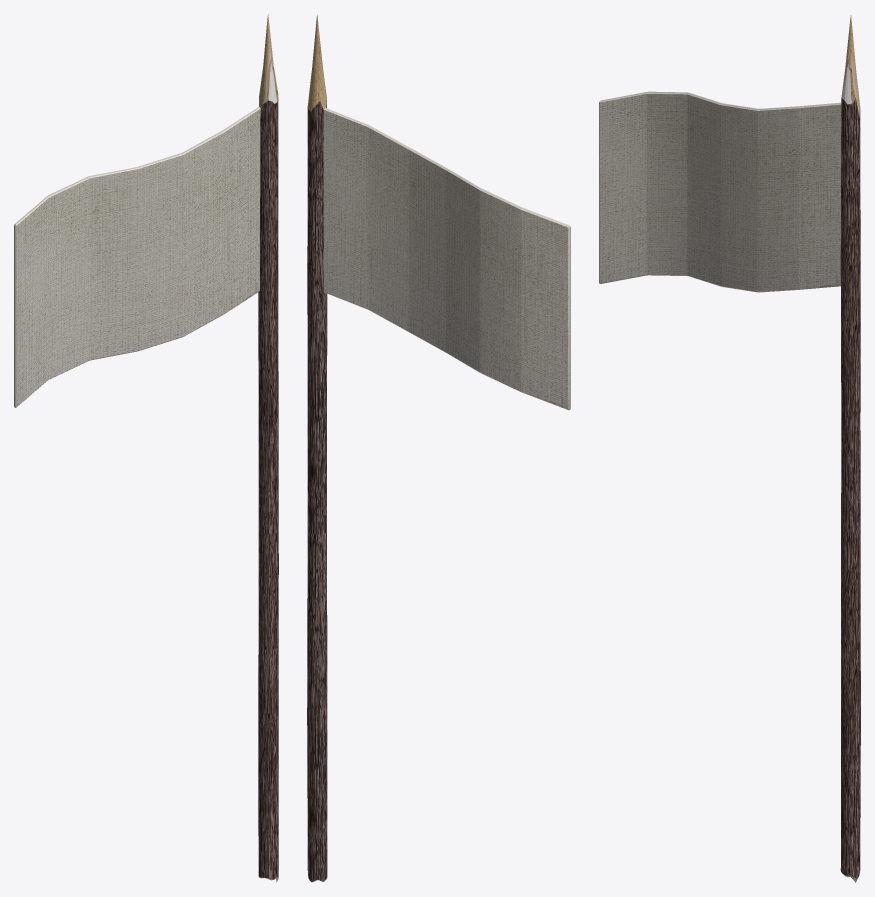
Rendered from flag_pole_red(1).FBX.
3 views of the same model, side by side, from view 1: azimuth 30°, elevation 25°; view 2: azimuth 150°, elevation 25°; view 3: azimuth 330°, elevation 25° (orthographic).
Parts seen in each view (by area): view 1: Box001, Cylinder004; view 2: Box001, Cylinder004; view 3: Box001, Cylinder004.
Part boxes in pixels (x1,y1,x2,y2): Box001: (14,107,260,407); Cylinder004: (258,14,278,882); Box001: (323,107,570,410); Cylinder004: (307,14,327,882); Box001: (599,91,841,292); Cylinder004: (840,15,860,882).
Size of the model in its own units: 7.46 by 23.64 by 0.6998.
3 materials, 3 textured.
